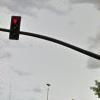Traffic light: (4, 9, 34, 52)
